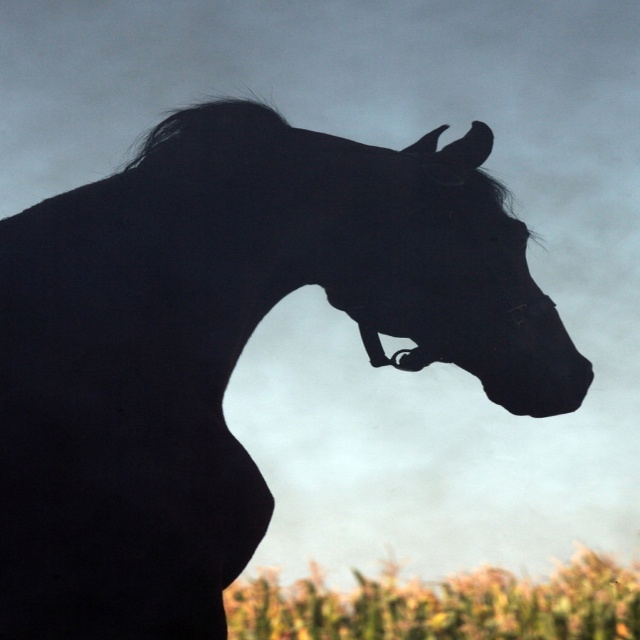Horse: (0, 91, 594, 639)
